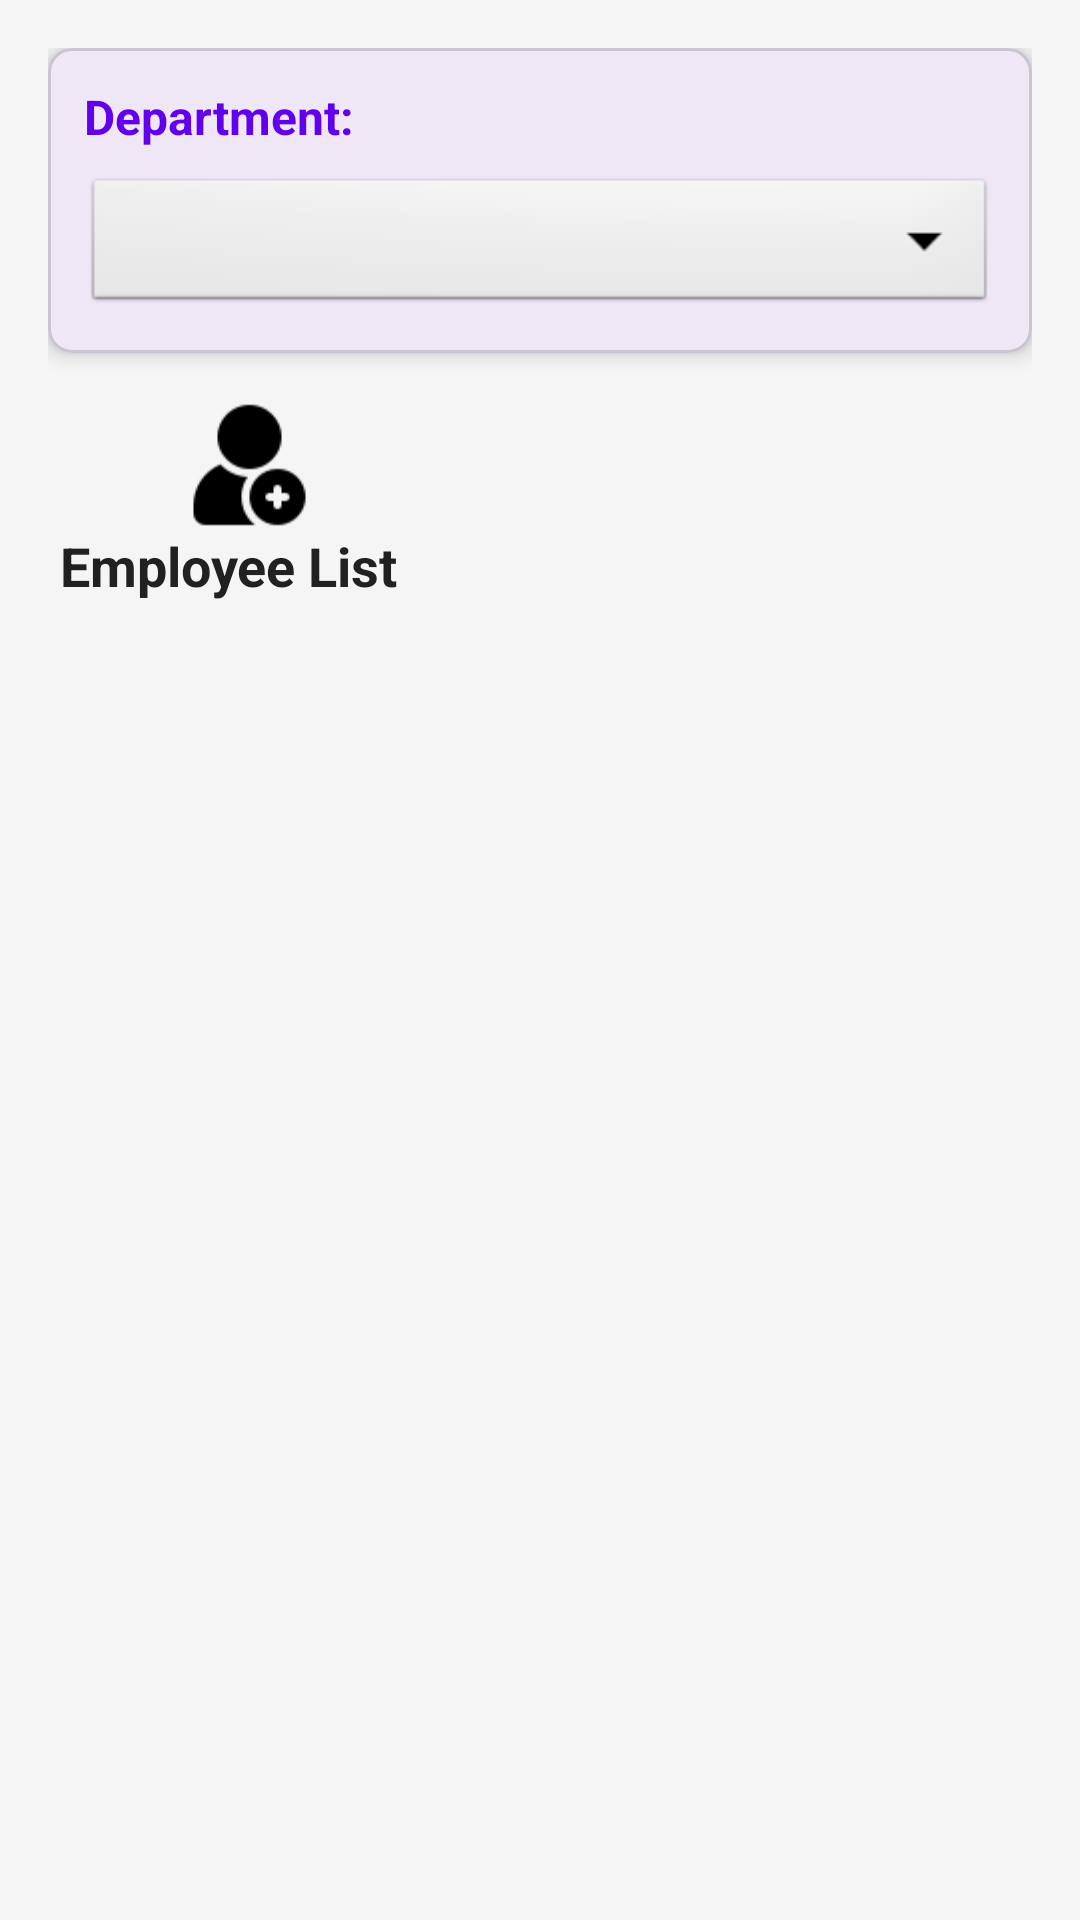

Named icons in this screenshot (1080 × 1920) and their bounding boxes, (x1, y1, x2, y2):
add: (193, 404, 306, 526)
